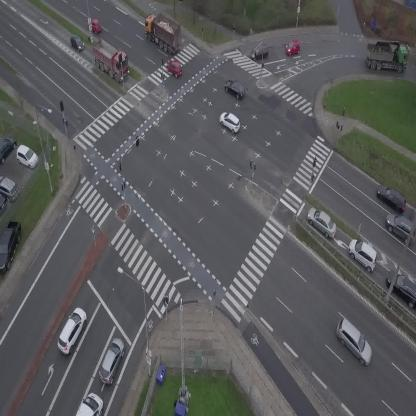car: (329, 316, 380, 367), (52, 304, 91, 355), (95, 336, 129, 387), (343, 235, 384, 274), (302, 203, 342, 241), (373, 181, 411, 216), (216, 109, 244, 135), (222, 77, 248, 101), (65, 32, 87, 55), (164, 57, 186, 78), (86, 17, 104, 35), (249, 45, 269, 60), (285, 41, 300, 56)
lorry: (83, 34, 137, 85), (136, 8, 190, 56), (366, 38, 409, 72), (75, 393, 103, 416)
